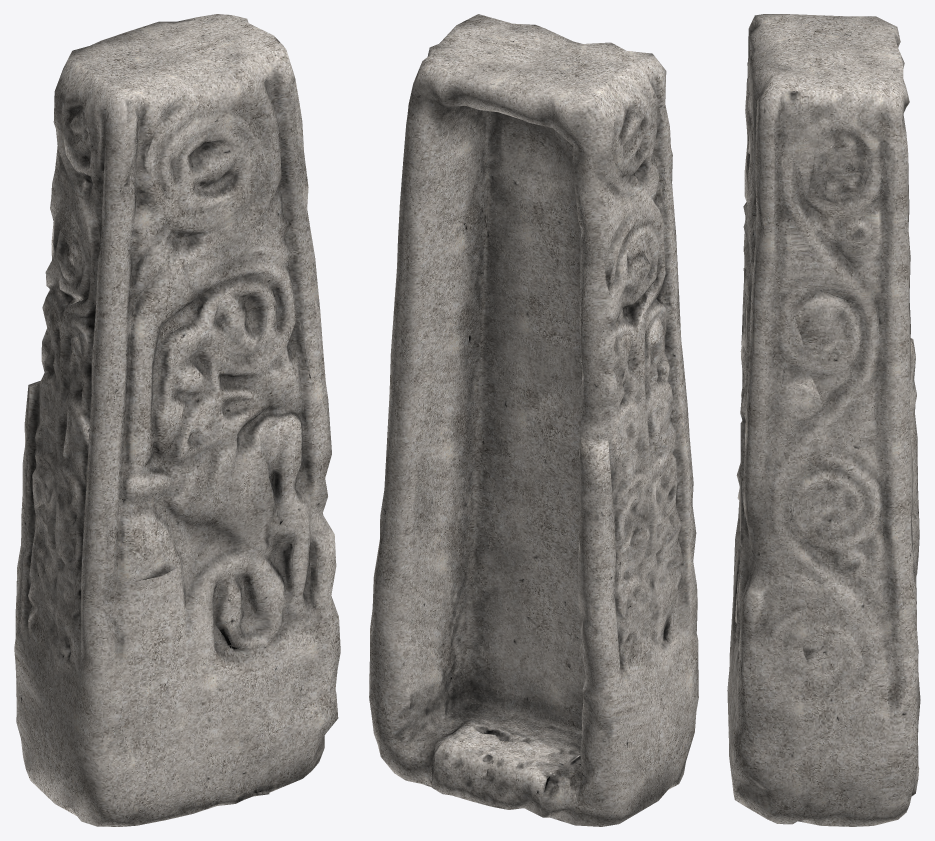
Rendered from cross-shaft.glb.
3 views of the same model, side by side, from view 1: azimuth 30°, elevation 25°; view 2: azimuth 150°, elevation 25°; view 3: azimuth 270°, elevation 25° (orthographic).
Parts seen in each view (by area): view 1: British-Museum-Sheffield-Anglo-Saxon-Cross-Shaft-LP; view 2: British-Museum-Sheffield-Anglo-Saxon-Cross-Shaft-LP; view 3: British-Museum-Sheffield-Anglo-Saxon-Cross-Shaft-LP.
Part boxes in pixels (bbox=[...]): British-Museum-Sheffield-Anglo-Saxon-Cross-Shaft-LP: bbox=[14, 14, 340, 826]; British-Museum-Sheffield-Anglo-Saxon-Cross-Shaft-LP: bbox=[369, 14, 698, 826]; British-Museum-Sheffield-Anglo-Saxon-Cross-Shaft-LP: bbox=[727, 14, 920, 826].
Size of the model in its own units: 49.38 by 131 by 31.71.
Materials: 1 (1 with a texture image).
